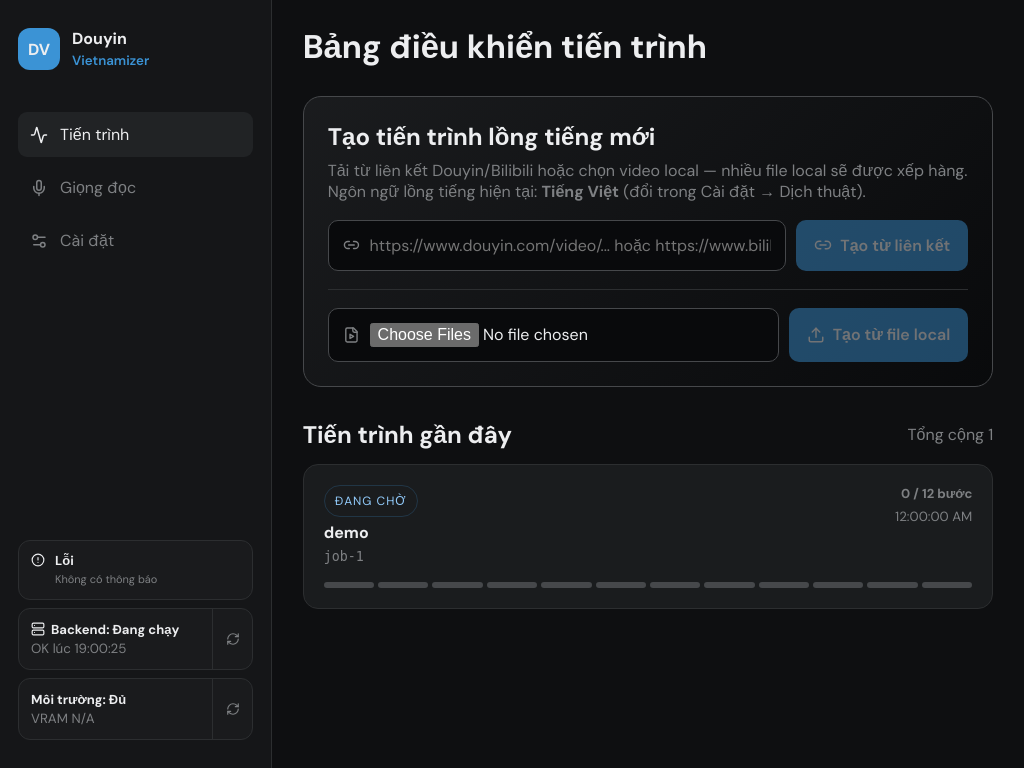
Scenario: job details opens only by click and closes without leaving selection active
Click the heading "demo" at (346, 533), box top-left (324, 523), bottom-right (369, 543)
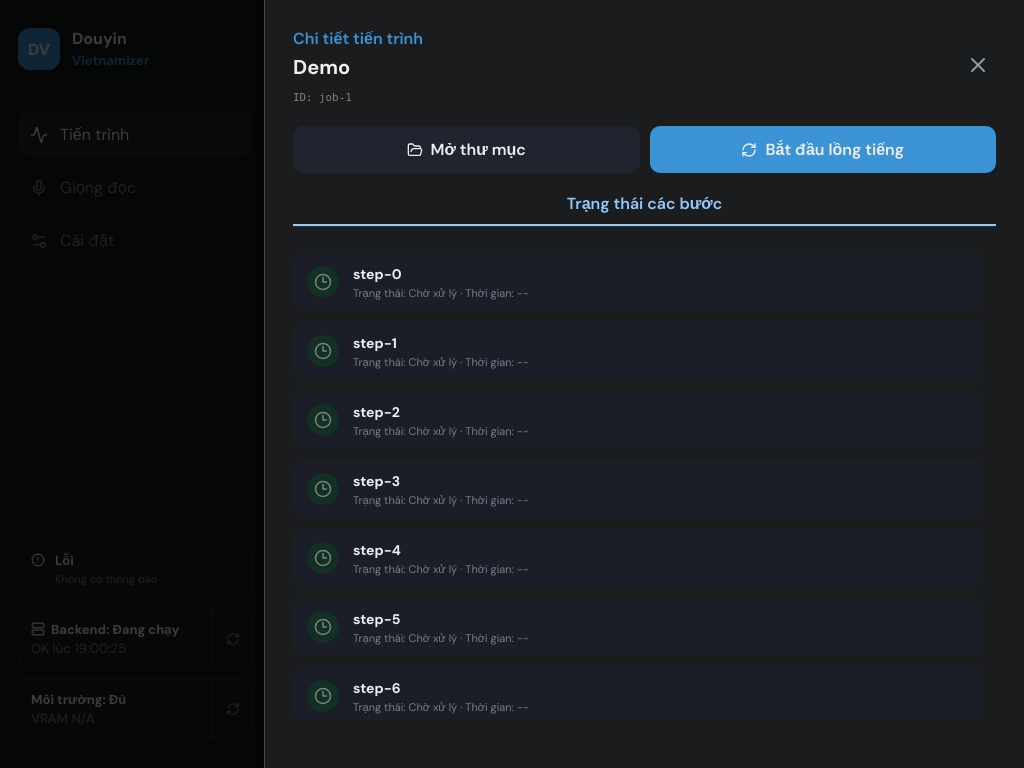
Expected: the text "Chi tiết tiến trình" is shown, top-left (293, 28), bottom-right (423, 49)
Click the button named "Close job details" at (978, 67), box top-left (960, 28), bottom-right (996, 106)
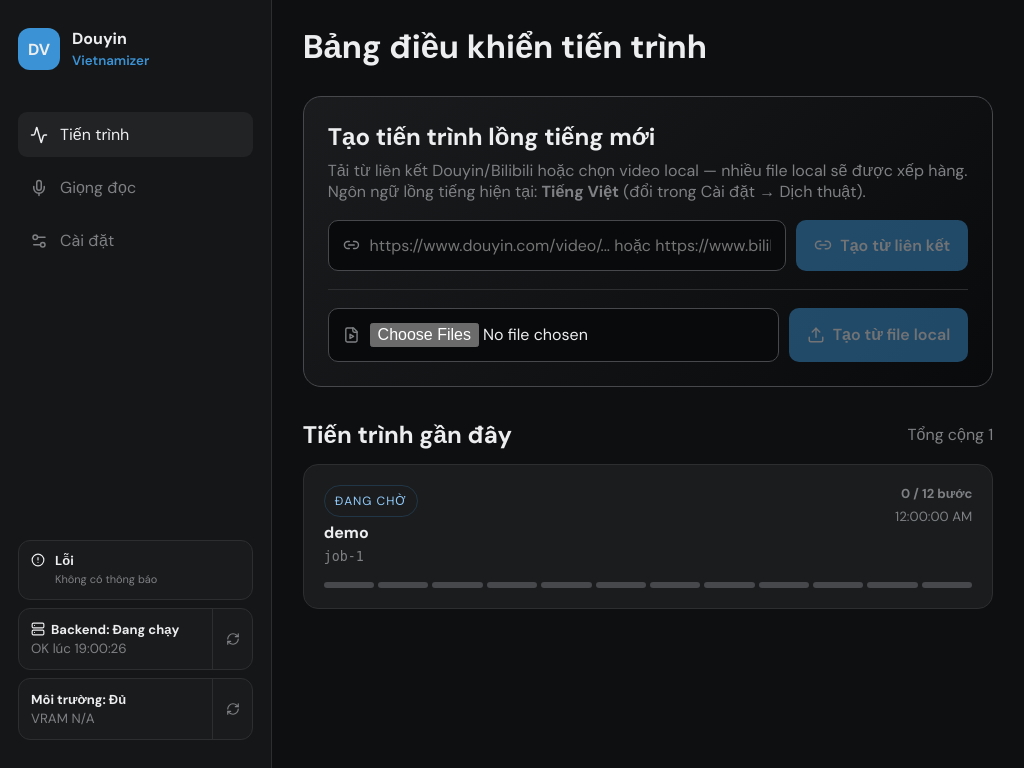
Expected: the text "Chi tiết tiến trình" is gone
